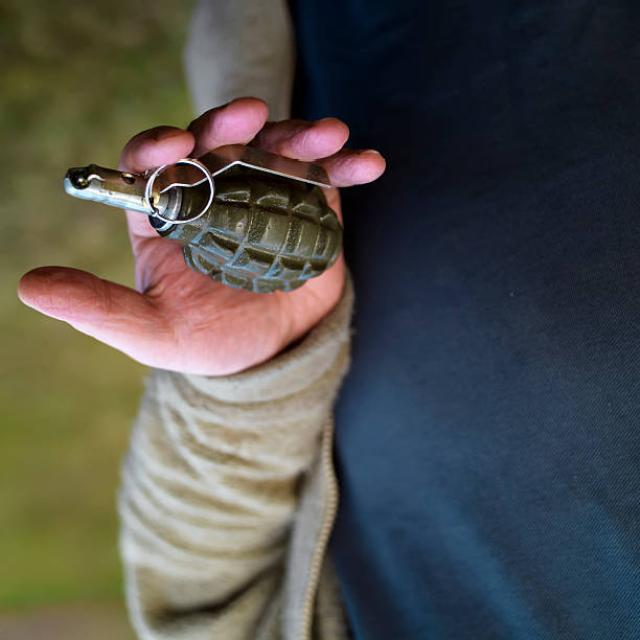grenade: (60, 144, 346, 302)
